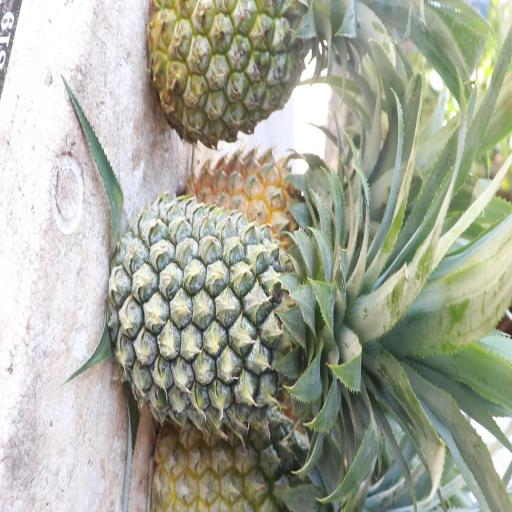------------------------------: (152, 0, 328, 144)
